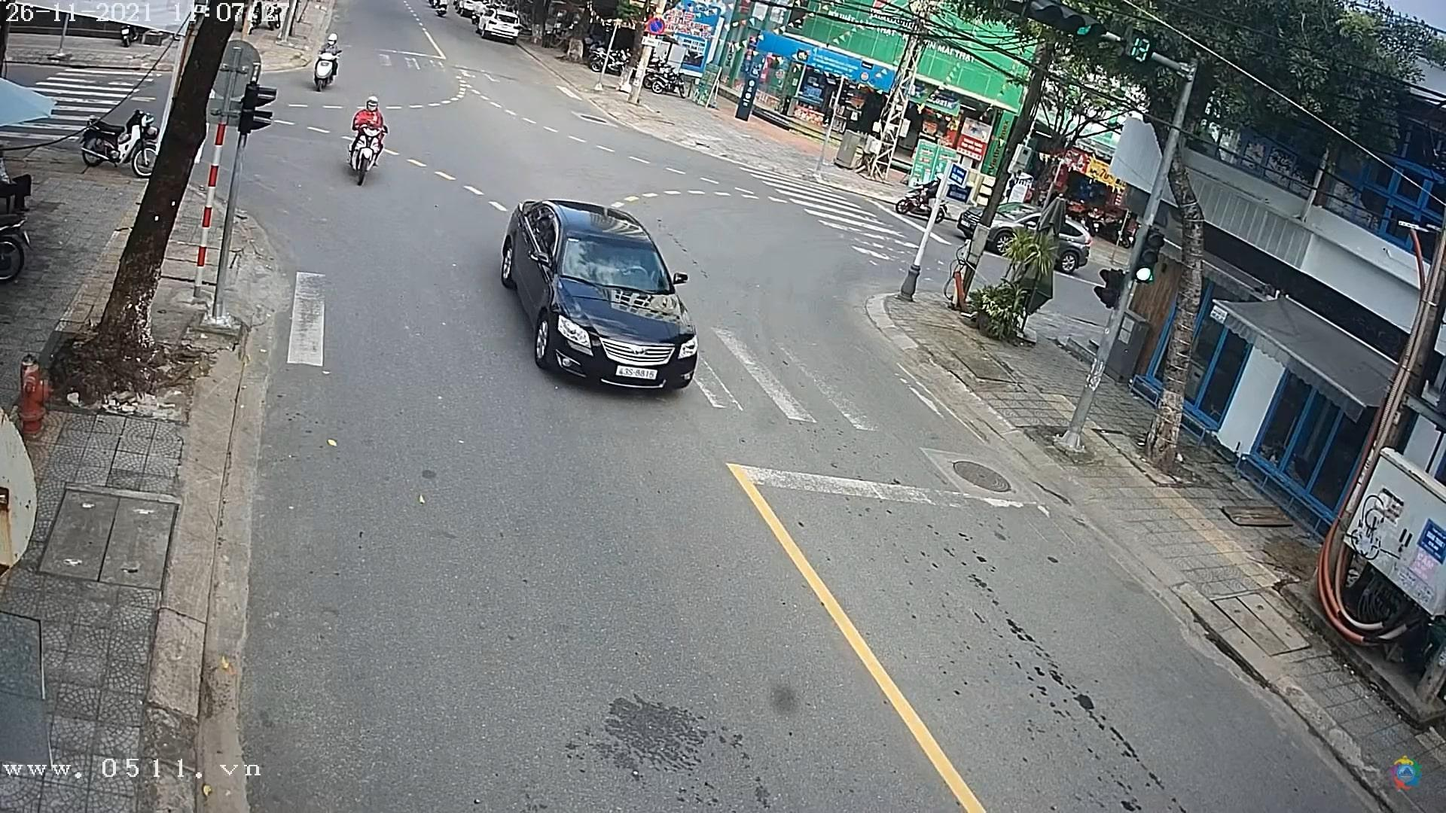car: (498, 202, 702, 399)
motorbike: (345, 123, 388, 191), (310, 56, 337, 91)
